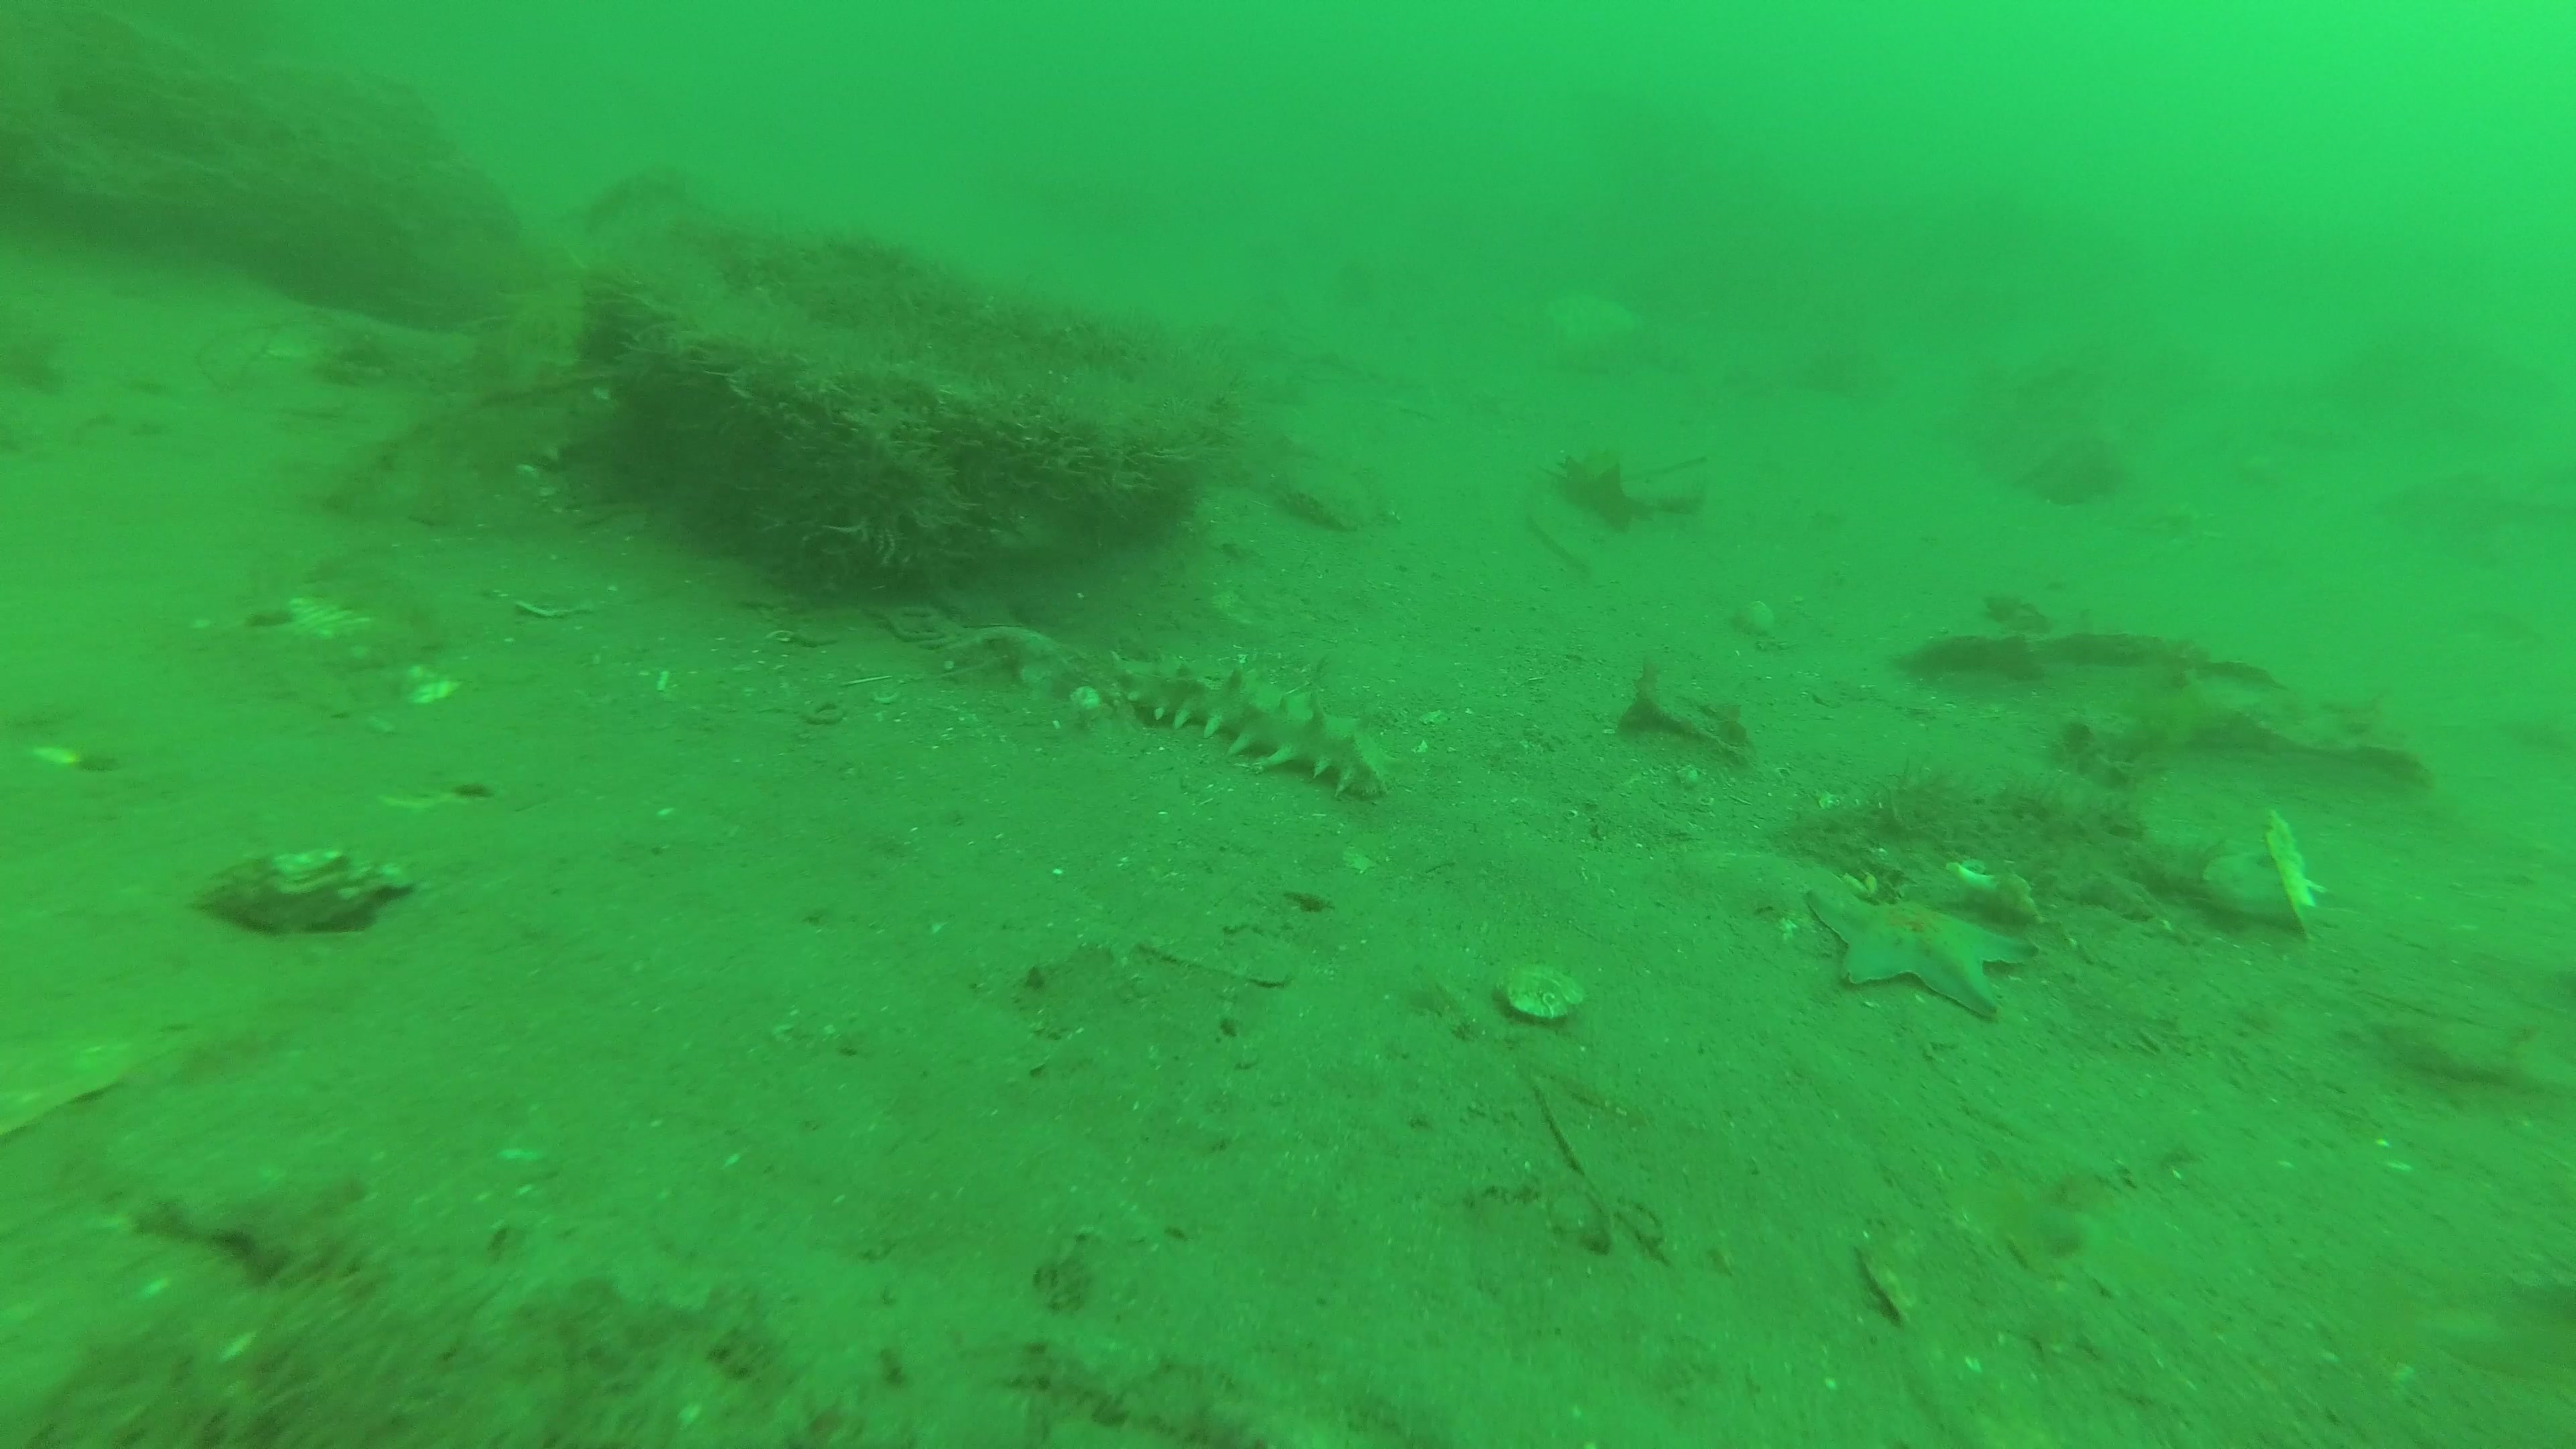holothurian: (1108, 651, 1398, 794)
starfish: (1801, 855, 2049, 1026)
